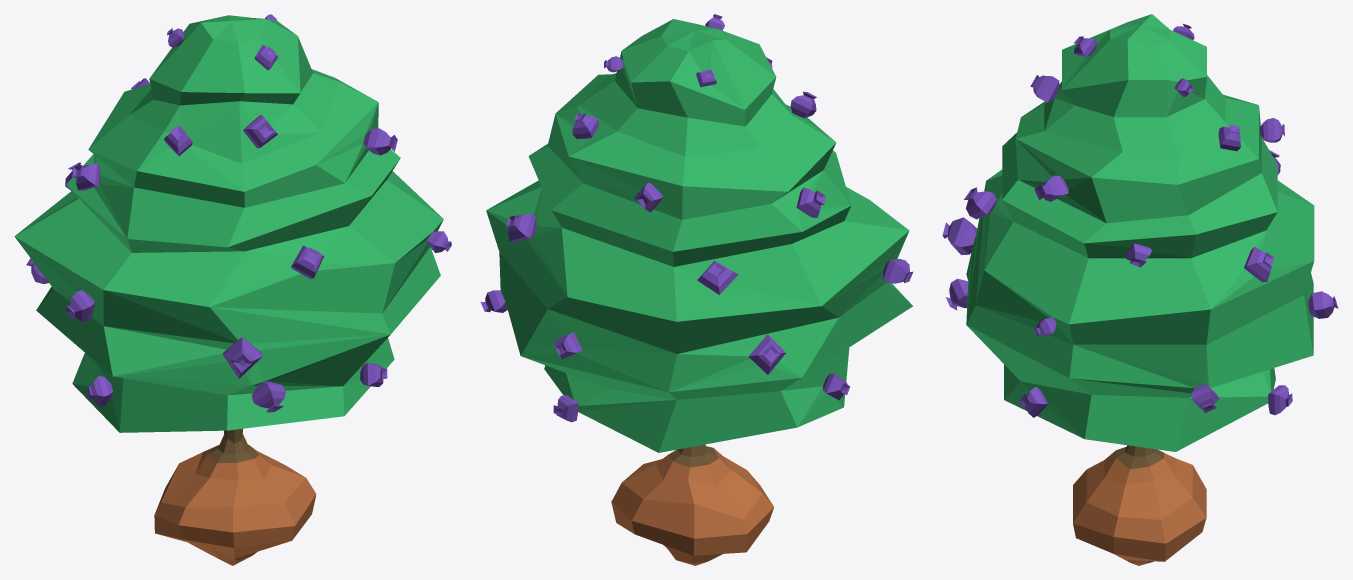
The model's file is mod_BlueberryBush_Full.fbx.
The picture shows the model from 3 angles, left to right: view 1: azimuth 30°, elevation 25°; view 2: azimuth 150°, elevation 25°; view 3: azimuth 270°, elevation 25°; orthographic projection.
Parts seen in each view (by area): view 1: BlueberryBush; view 2: BlueberryBush; view 3: BlueberryBush.
Boxes of the visible parts, bbox=[...] form: BlueberryBush: bbox=[14, 14, 451, 565]; BlueberryBush: bbox=[480, 14, 913, 565]; BlueberryBush: bbox=[942, 14, 1338, 565].
Size of the model in its own units: 780 by 1089 by 724.
